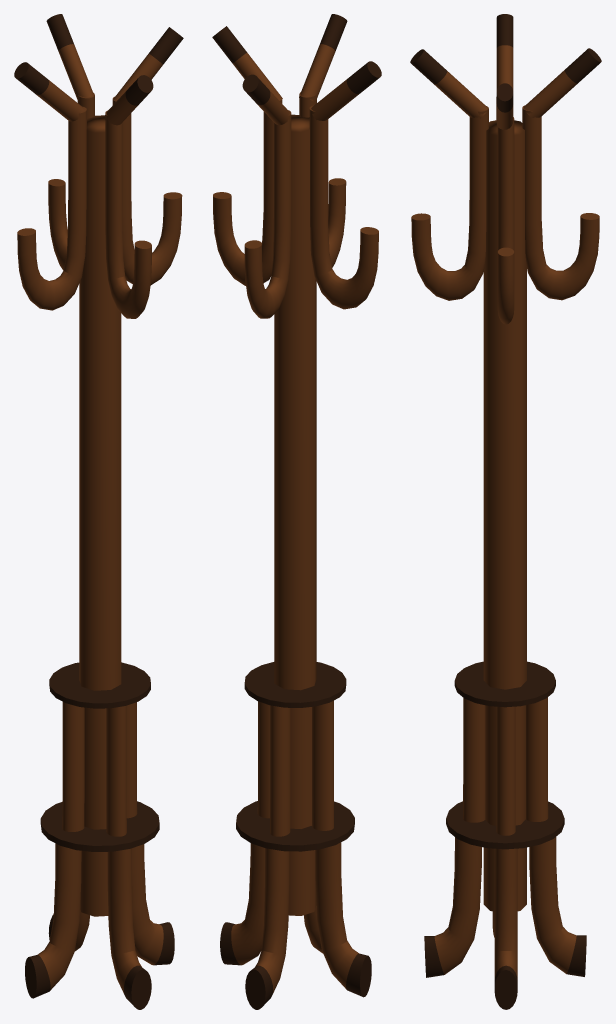
Rendered from stumtjaener.fbx.
3 views of the same model, side by side, from view 1: azimuth 30°, elevation 25°; view 2: azimuth 150°, elevation 25°; view 3: azimuth 270°, elevation 25° (orthographic).
Parts seen in each view (by area): view 1: polySurface27; view 2: polySurface27; view 3: polySurface27.
Boxes of the visible parts, x1,y1,x2,y2 form: polySurface27: [14, 14, 183, 1009]; polySurface27: [212, 14, 381, 1009]; polySurface27: [410, 14, 601, 1009].
Size of the model in its own units: 58.63 by 314 by 58.77.
